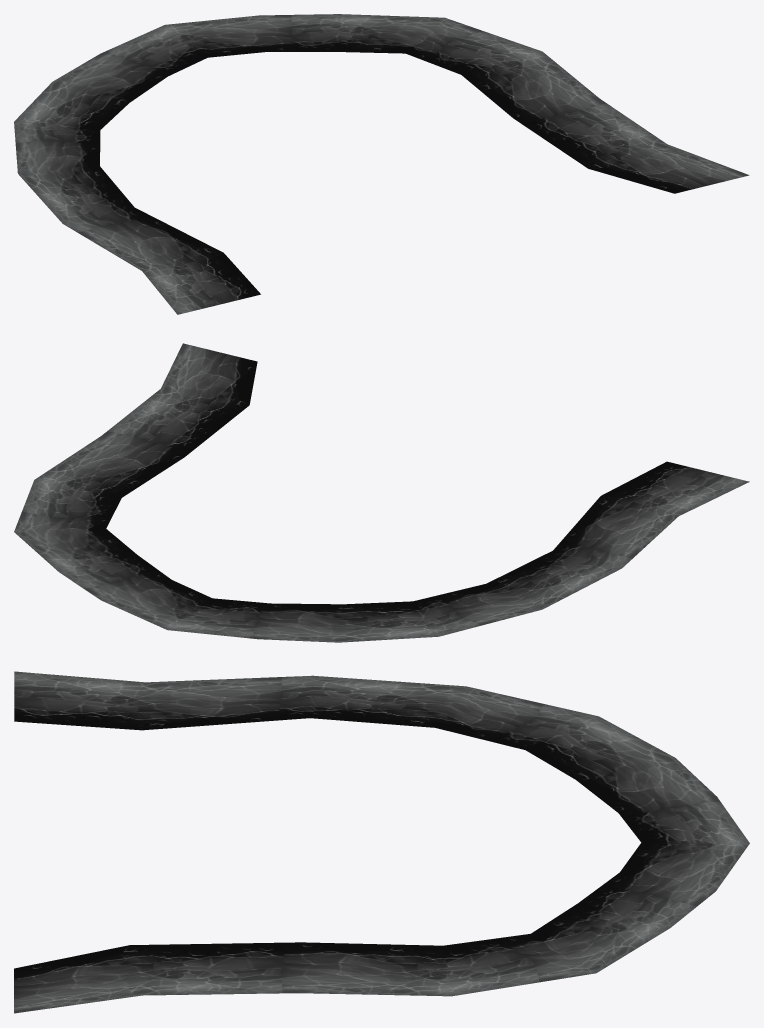
File: wavewallniche.fbx
3 views of the same model, one above another, from view 1: azimuth 30°, elevation 25°; view 2: azimuth 150°, elevation 25°; view 3: azimuth 270°, elevation 25° (orthographic). The views are drawn at different scales.
Parts seen in each view (by area): view 1: obj0.068; view 2: obj0.068; view 3: obj0.068.
Part boxes in pixels (x1,y1,x2,y2): obj0.068: [14, 14, 749, 314]; obj0.068: [14, 343, 749, 642]; obj0.068: [14, 671, 749, 1013].
Bounding box in the file's own units: 13.6 × 0.00174 × 12.37.
